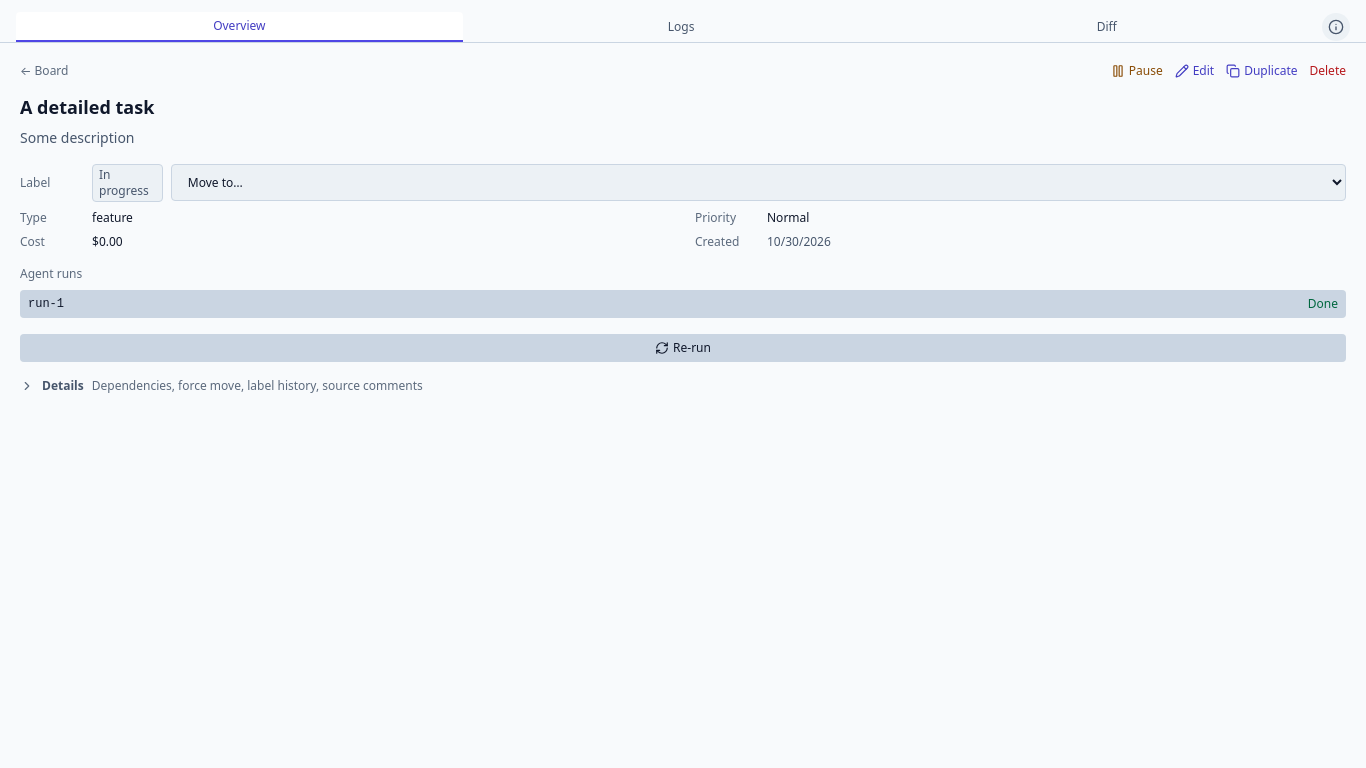
Test: TaskDetailPage review layout › Force move is hidden until the Details disclosure is opened
Expected: the heading "A detailed task" is shown, [20,95,154,119]
Click the button "Details" at (63, 385), box [20,378,1346,394]
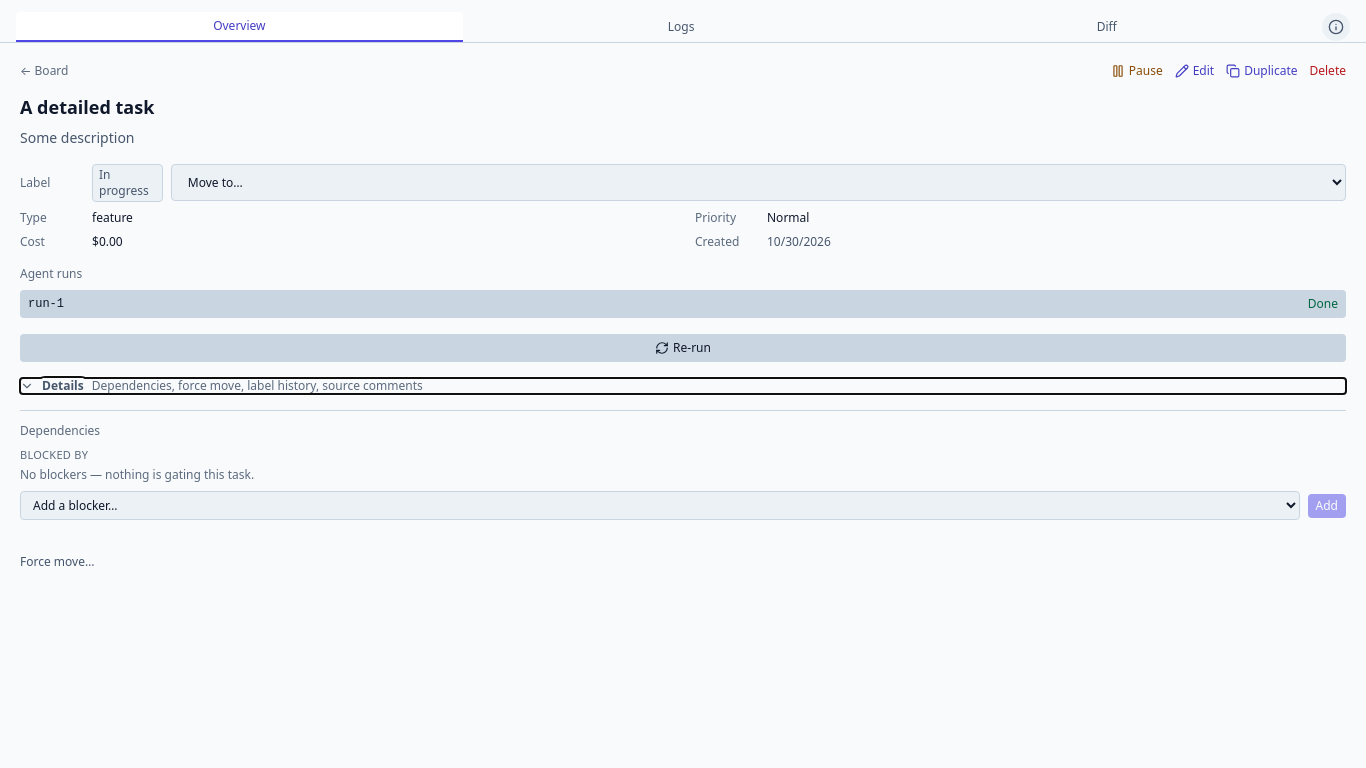
Now the button "Force move…" is shown, box [20,554,94,570]
